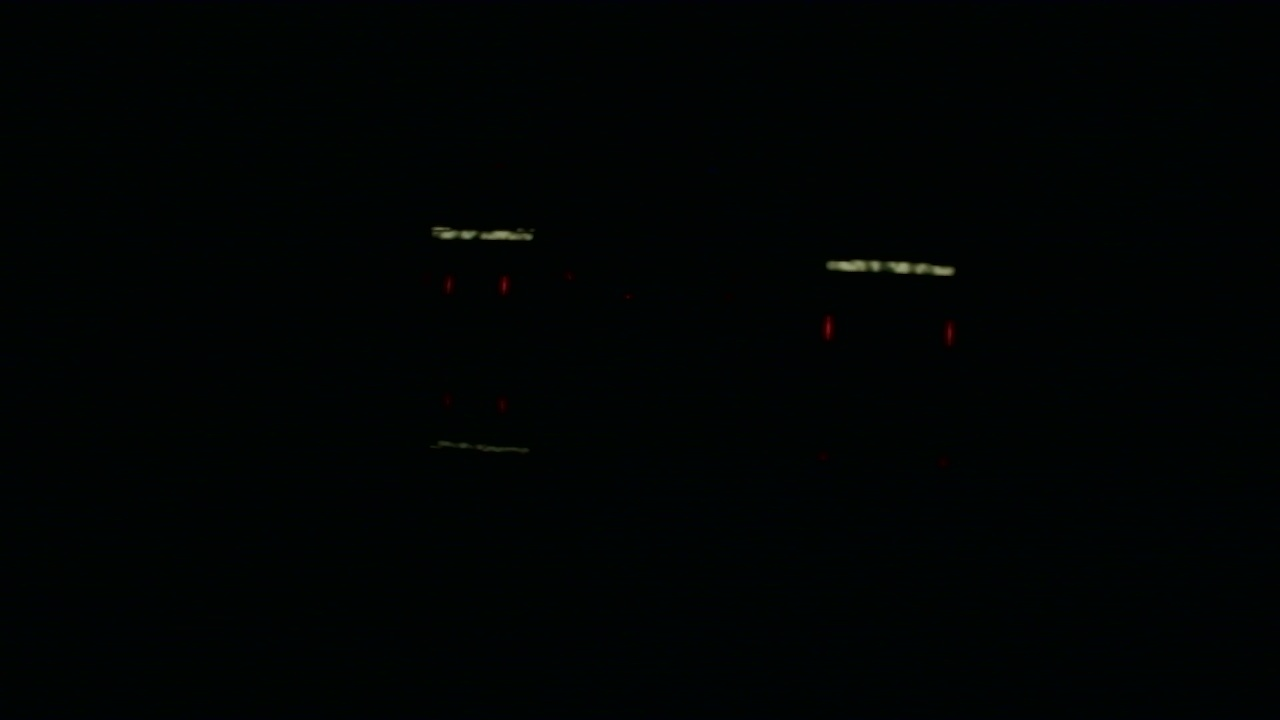lamp: (499, 268, 512, 295), (443, 264, 452, 292), (823, 319, 833, 340), (948, 322, 958, 338)
pair1: (445, 270, 509, 294)
pair2: (827, 317, 953, 344)
